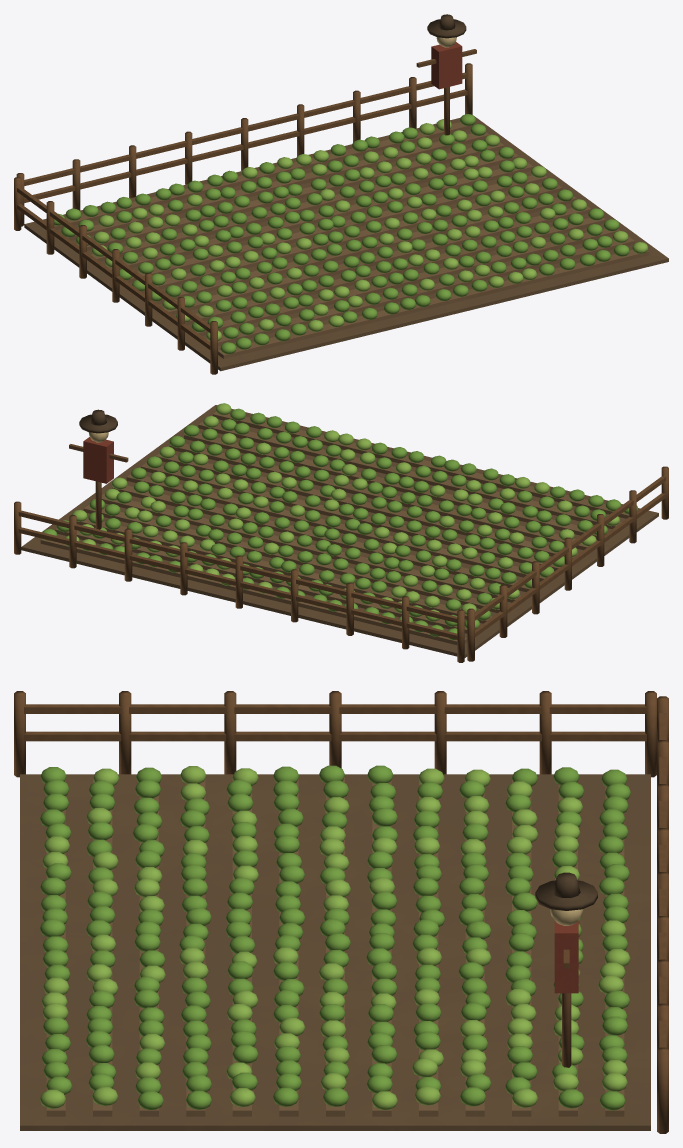
Rendered from field_young.glb.
3 renders of one model, top to bottom at view 1: azimuth 30°, elevation 25°; view 2: azimuth 150°, elevation 25°; view 3: azimuth 270°, elevation 25°, orthographic. The views are drawn at different scales.
Visible parts, largest first — view 1: field_young; view 2: field_young; view 3: field_young.
Part boxes in pixels (bbox=[...]): field_young: bbox=[14, 14, 668, 374]; field_young: bbox=[14, 403, 668, 662]; field_young: bbox=[14, 691, 668, 1133].
Bounding box in the file's own units: 7.1 × 1.97 × 5.44.
1 material, 1 textured.
